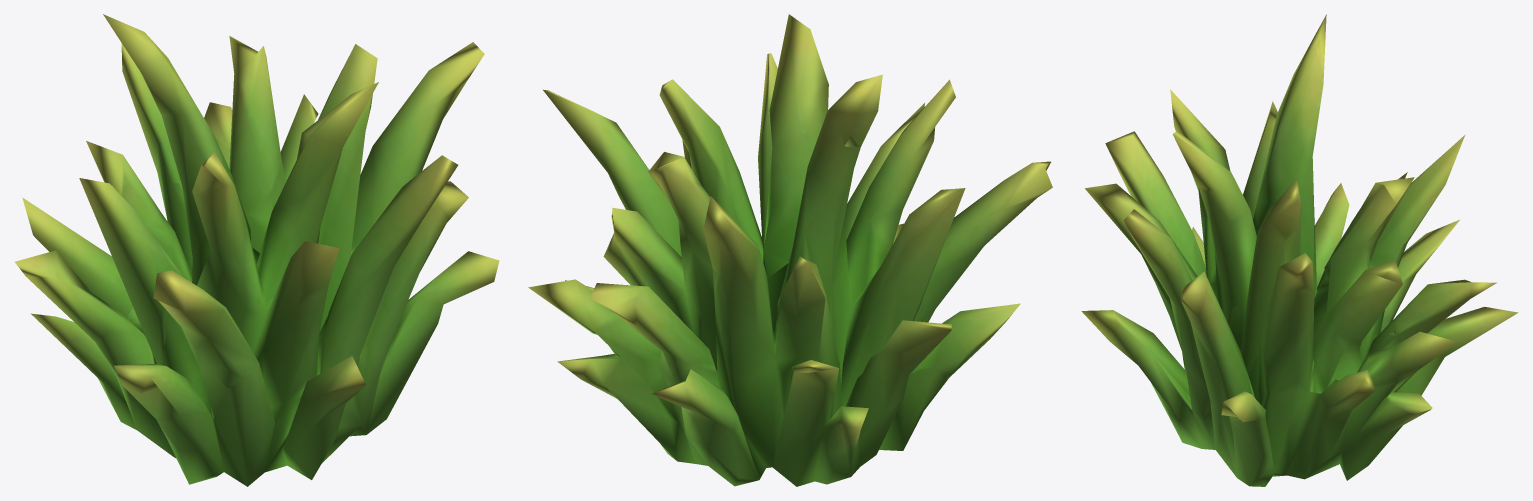
The model's file is 43-tufo-grama.glb.
3 renders of one model, left to right at view 1: azimuth 30°, elevation 25°; view 2: azimuth 150°, elevation 25°; view 3: azimuth 270°, elevation 25°, orthographic. The views are drawn at different scales.
Visible parts, largest first — view 1: tripo_node_f360d9d8-3cd6-4c77-a78c-f261af6f6b9e; view 2: tripo_node_f360d9d8-3cd6-4c77-a78c-f261af6f6b9e; view 3: tripo_node_f360d9d8-3cd6-4c77-a78c-f261af6f6b9e.
Part boxes in pixels (<box>): tripo_node_f360d9d8-3cd6-4c77-a78c-f261af6f6b9e: <box>15,14,499,486</box>; tripo_node_f360d9d8-3cd6-4c77-a78c-f261af6f6b9e: <box>528,14,1052,486</box>; tripo_node_f360d9d8-3cd6-4c77-a78c-f261af6f6b9e: <box>1081,14,1518,486</box>.
Size of the model in its own units: 1 by 0.9474 by 0.9866.
1 material, 1 textured.
